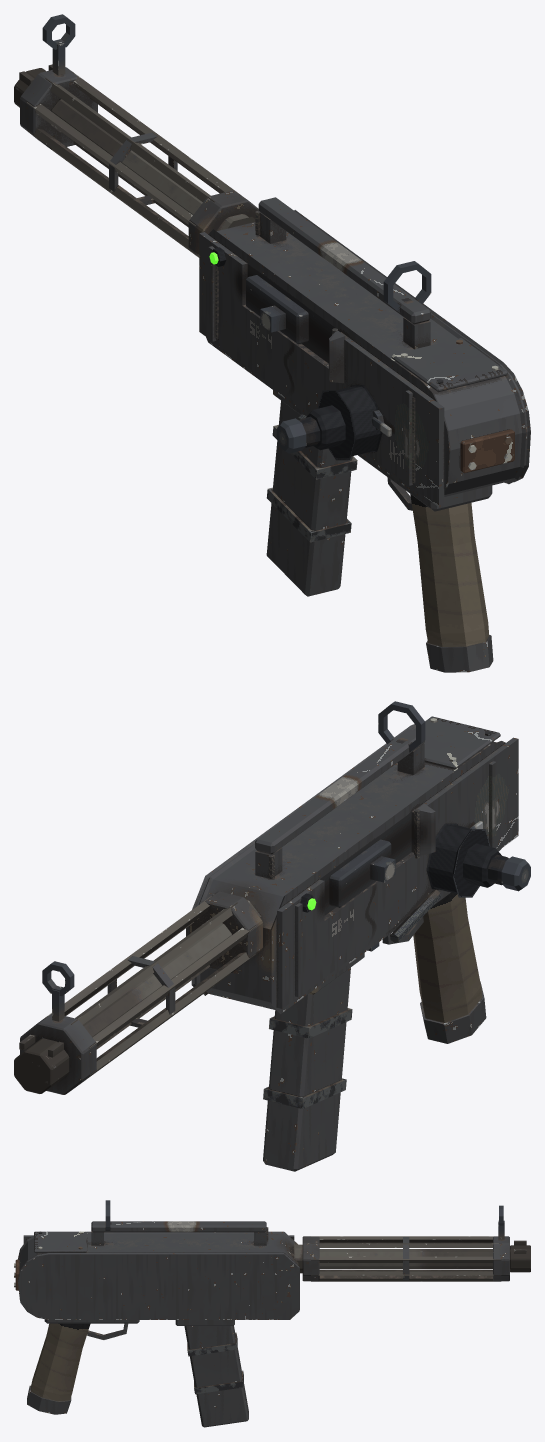
Rendered from switchback.glb.
3 renders of one model, top to bottom at view 1: azimuth 30°, elevation 25°; view 2: azimuth 150°, elevation 25°; view 3: azimuth 270°, elevation 25°, orthographic. The views are drawn at different scales.
Parts seen in each view (by area): view 1: Body, Bolt; view 2: Body, Bolt; view 3: Body.
Boxes of the visible parts, x1,y1,x2,y2 form: Body: (14, 14, 530, 672); Bolt: (246, 275, 308, 344); Body: (14, 701, 530, 1171); Bolt: (329, 839, 395, 907); Body: (14, 1200, 530, 1427).
Size of the model in its own units: 0.1038 by 0.2301 by 0.489.
Materials: 1 (1 with a texture image).
